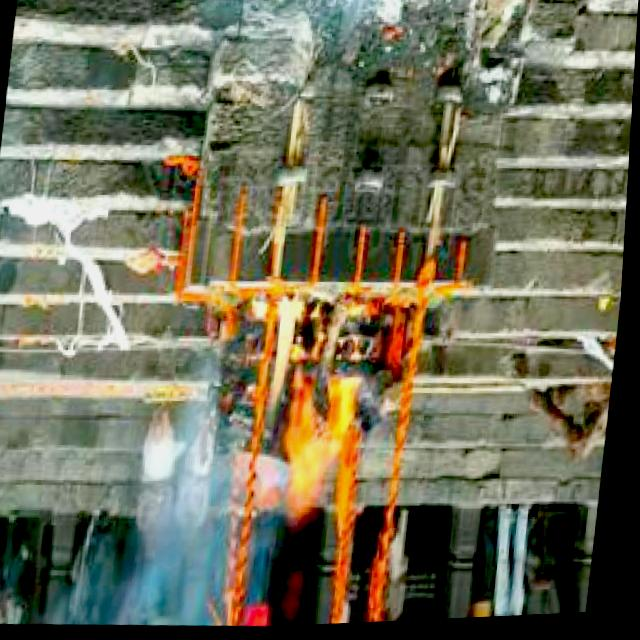Fire: (254, 292, 373, 536)
